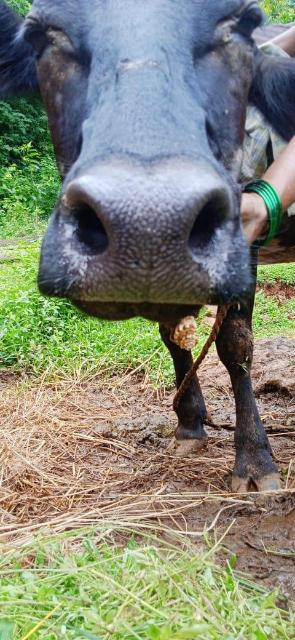Muzzle: (75, 178, 215, 298)
